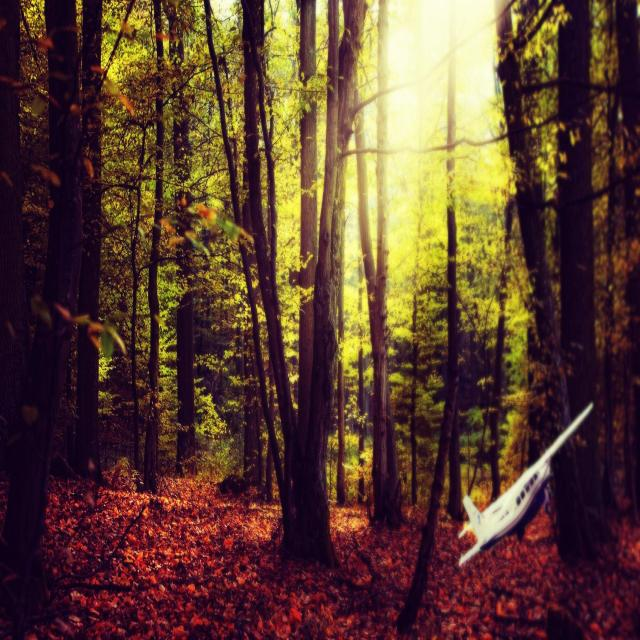airplane: (457, 400, 594, 568)
